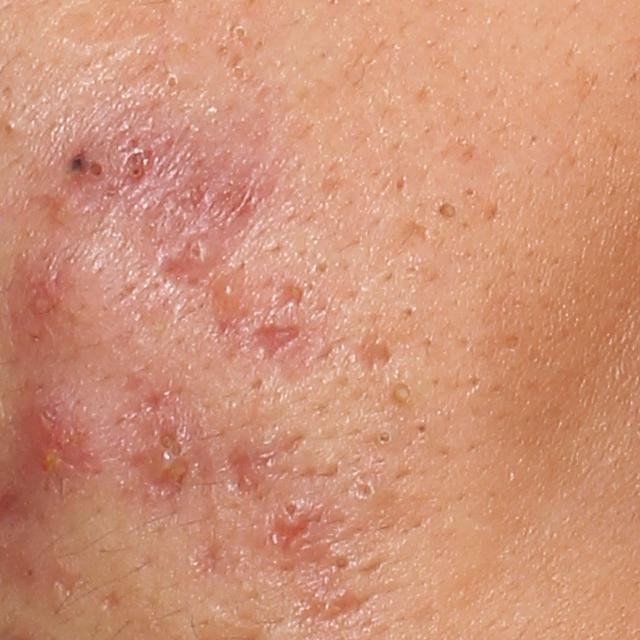atrophic_scar: (48, 95, 266, 233), (242, 321, 310, 377), (272, 507, 331, 565), (226, 441, 274, 501), (295, 590, 381, 622), (46, 560, 94, 611), (343, 334, 396, 376), (398, 218, 429, 246), (98, 589, 121, 611)
comedo: (386, 376, 412, 408), (352, 478, 381, 505), (433, 198, 460, 225), (374, 426, 398, 449), (392, 173, 414, 195), (500, 331, 523, 352), (232, 24, 249, 45), (414, 419, 431, 439), (1, 117, 15, 139), (403, 303, 420, 320), (166, 71, 181, 90), (465, 185, 476, 200)
papule: (115, 129, 155, 186), (212, 272, 253, 318), (177, 232, 219, 276), (275, 495, 311, 530)
